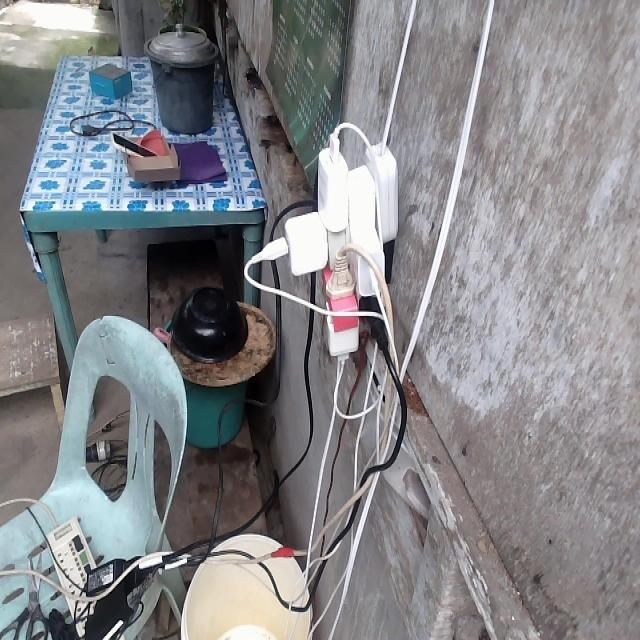-: (264, 117, 400, 364)
